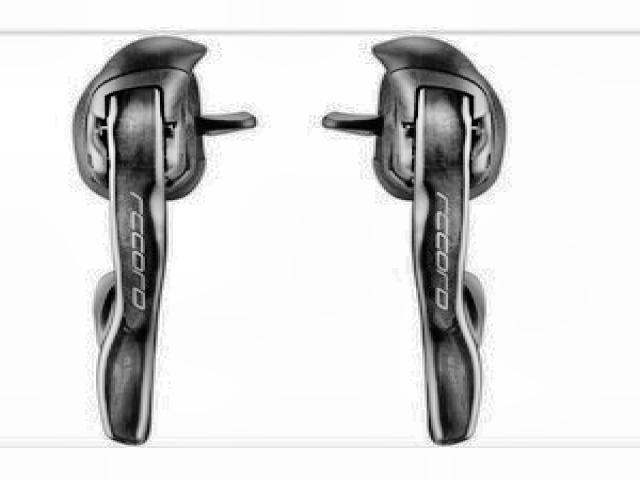sti_shifter: (56, 36, 256, 444), (320, 37, 514, 448)
